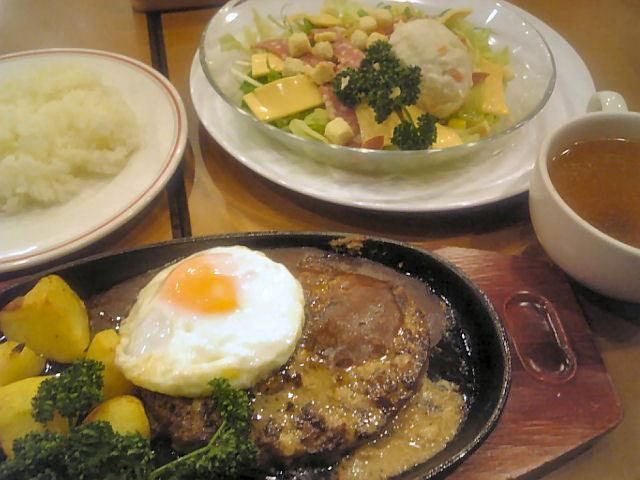plate: (189, 0, 593, 211)
rice: (0, 64, 140, 214)
